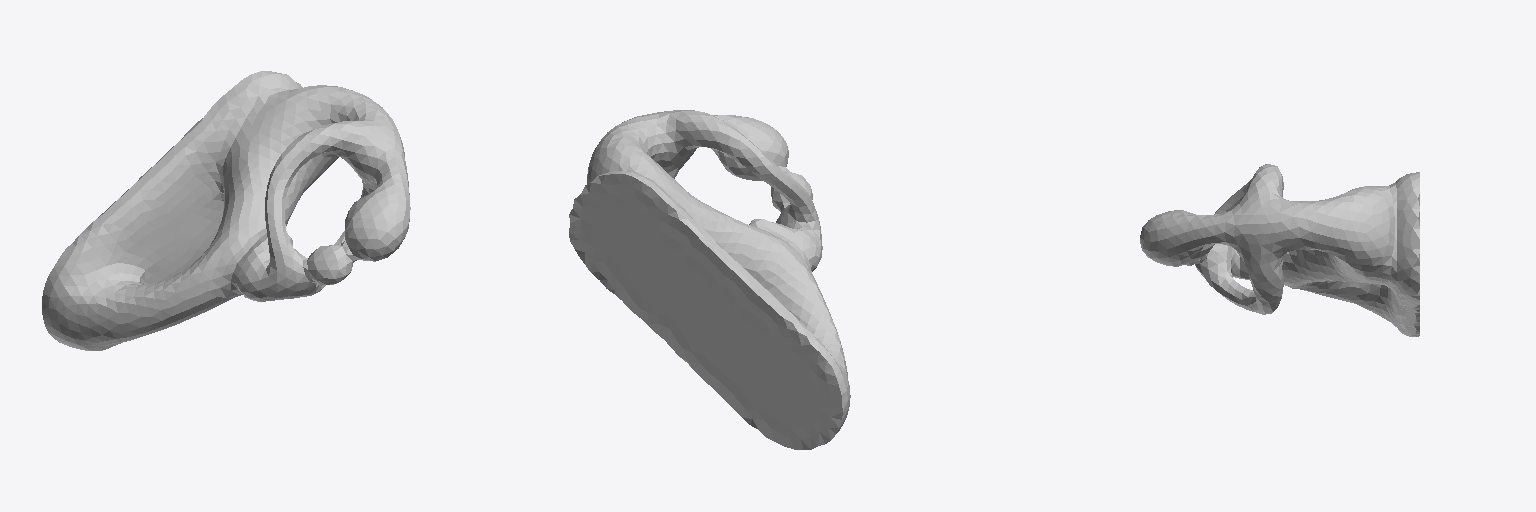
File: motherChild_2k.obj
3 views of the same model, side by side, from view 1: azimuth 30°, elevation 25°; view 2: azimuth 150°, elevation 25°; view 3: azimuth 270°, elevation 25° (orthographic).
Size of the model in its own units: 125 by 98.05 by 105.